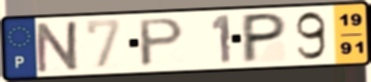1: (210, 12, 234, 66)
7: (83, 17, 128, 72)
9: (293, 10, 328, 61)
N: (34, 18, 83, 75)
P: (240, 11, 290, 65), (137, 16, 187, 69)
